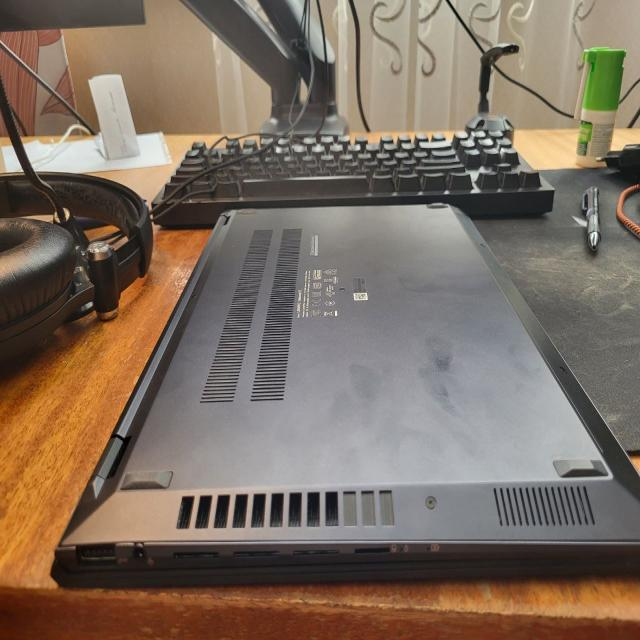other: (398, 322, 476, 437), (359, 234, 462, 301), (339, 357, 388, 419), (497, 318, 540, 386)
